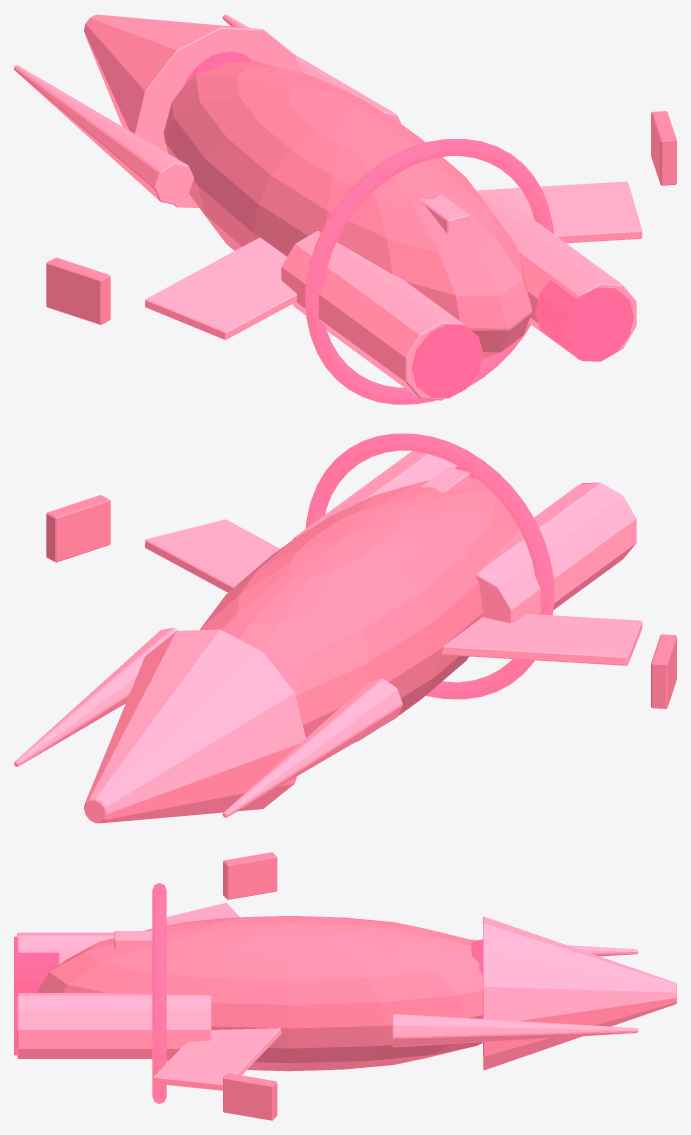
Rendered from enemy_fighter.glb.
3 renders of one model, top to bottom at view 1: azimuth 30°, elevation 25°; view 2: azimuth 150°, elevation 25°; view 3: azimuth 270°, elevation 25°, orthographic. The views are drawn at different scales.
Parts seen in each view (by area): view 1: Body, Glow, Ring; view 2: Body, Ring; view 3: Body, Ring, Glow.
Boxes of the visible parts, <box> form: Body: <box>14,14,676,400</box>; Glow: <box>184,51,633,398</box>; Ring: <box>305,139,553,404</box>; Body: <box>14,451,676,823</box>; Ring: <box>305,433,554,699</box>; Body: <box>17,852,676,1120</box>; Ring: <box>152,883,166,1103</box>; Glow: <box>14,936,482,1055</box>.
Size of the model in its own units: 4.28 by 1.71 by 5.12.
